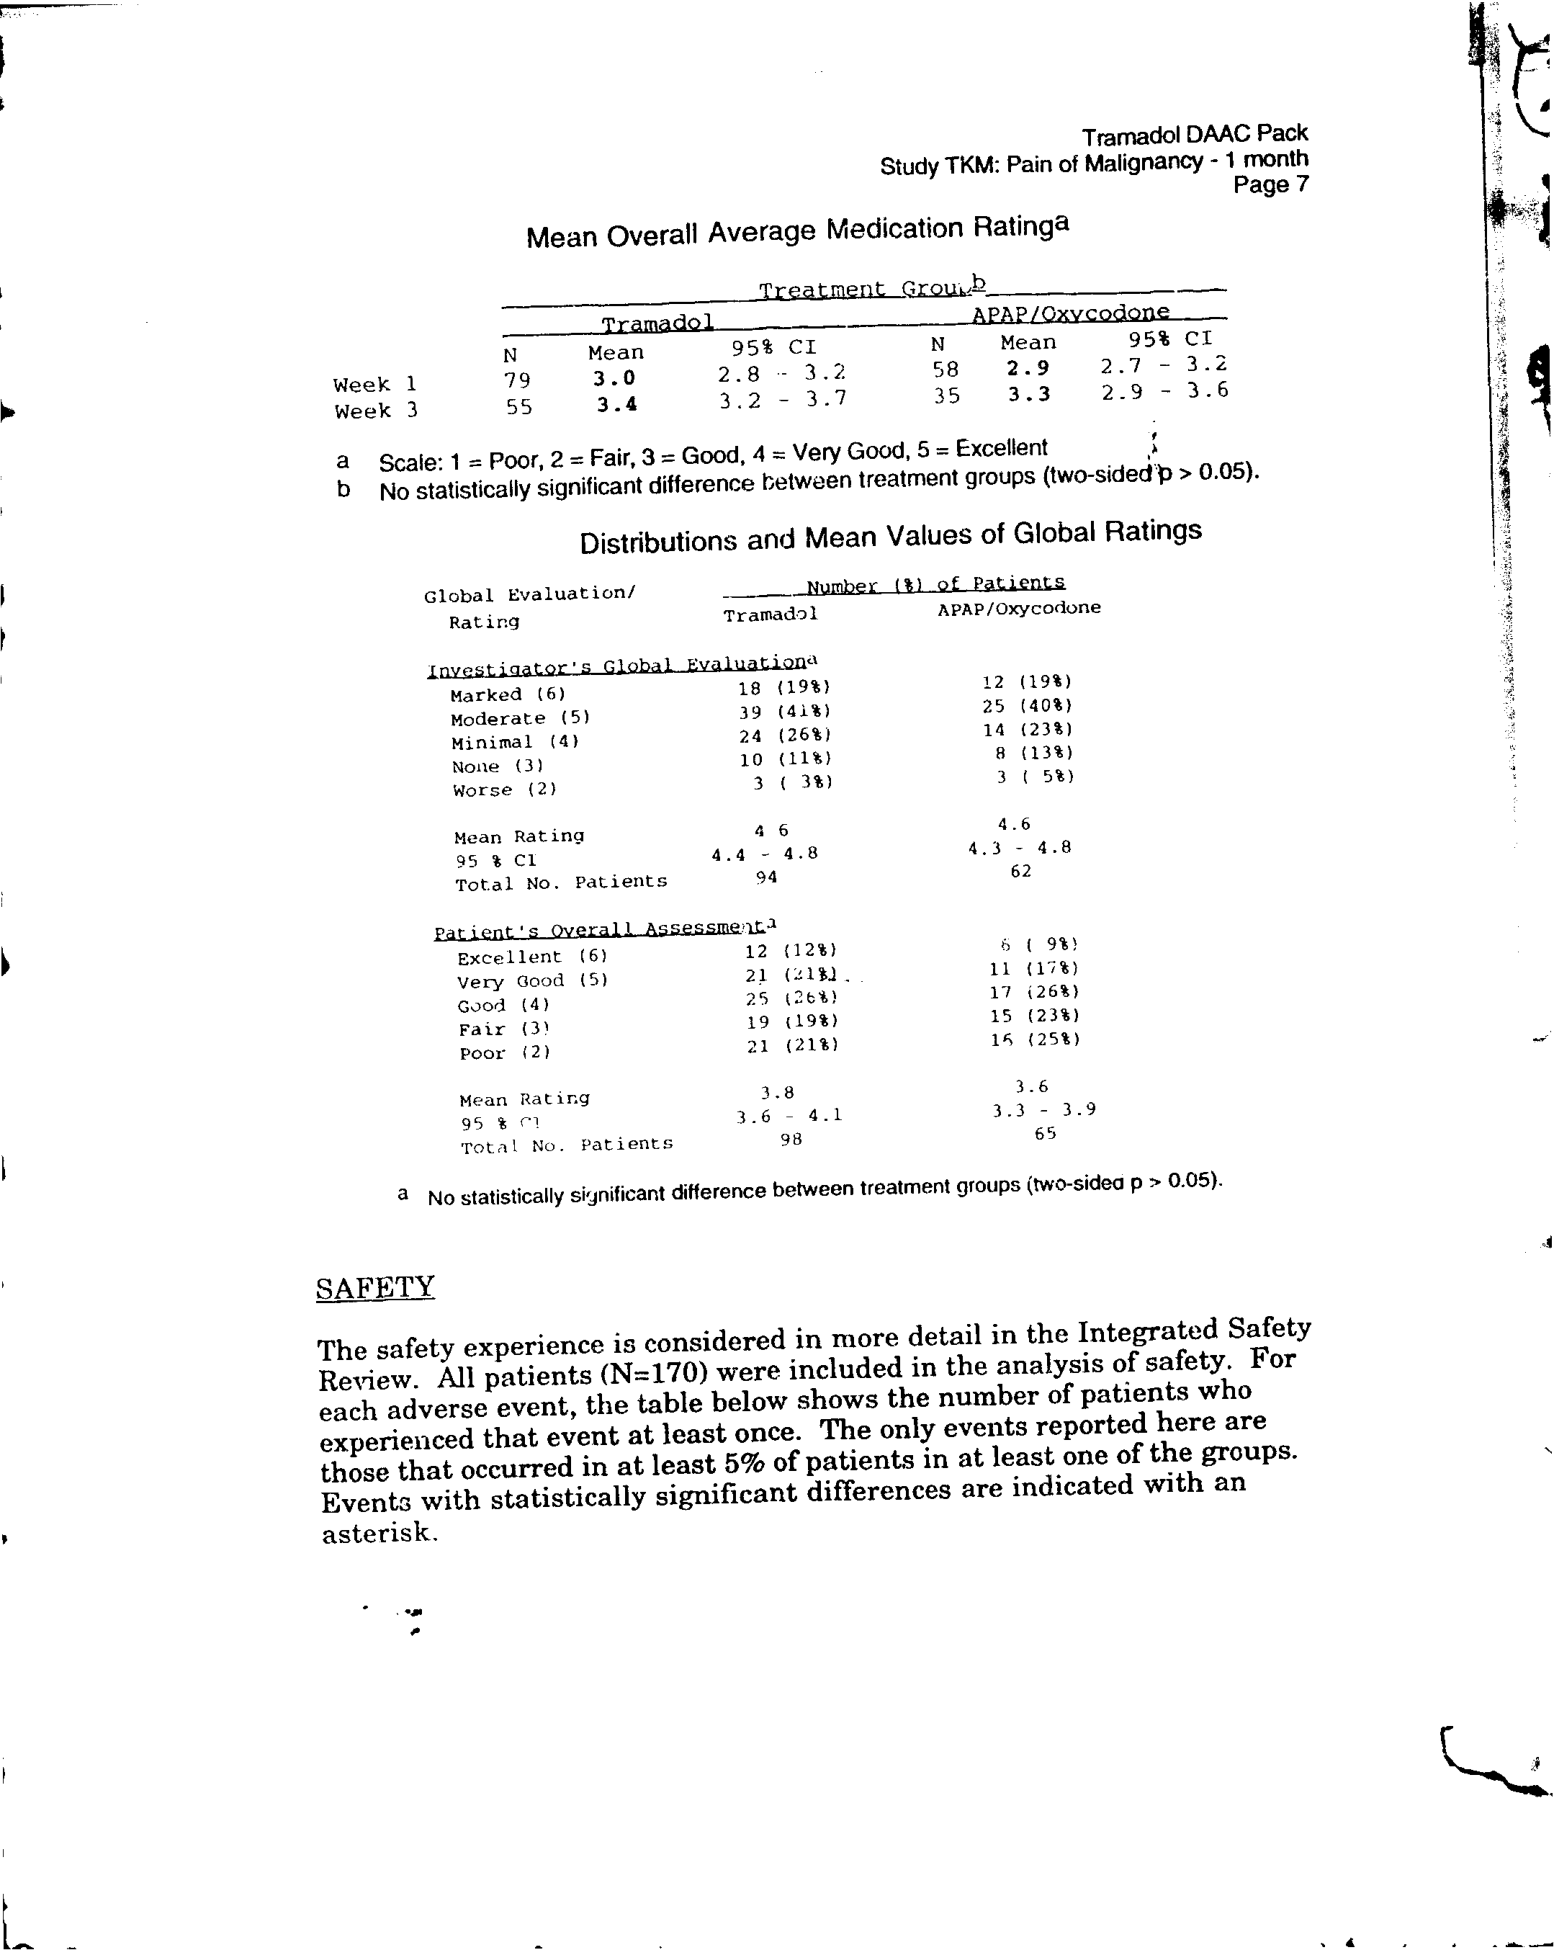nolines: (419, 564, 1110, 1160)
partial_lined: (330, 277, 1235, 419)
